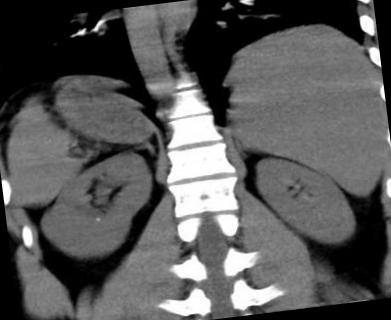Tas_Var: (94, 216, 101, 222)
